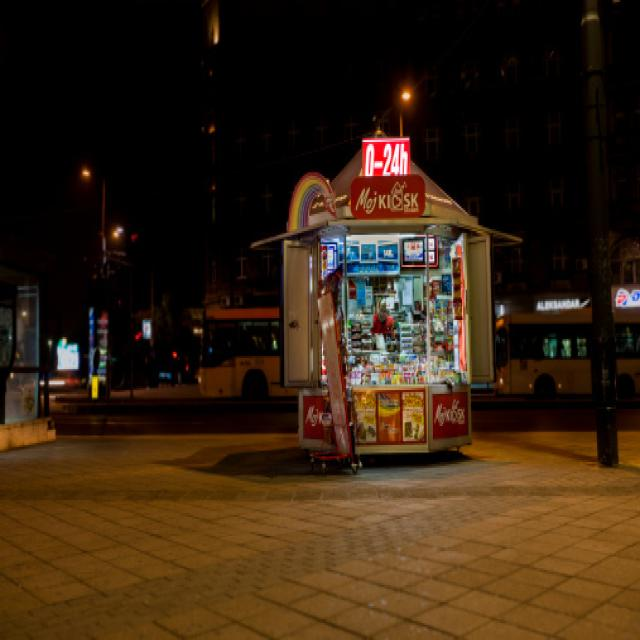Bus: (483, 292, 640, 424), (184, 275, 282, 422)
